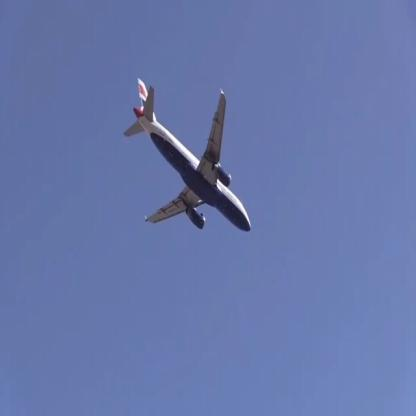CIV_Plane: (124, 80, 256, 232)
